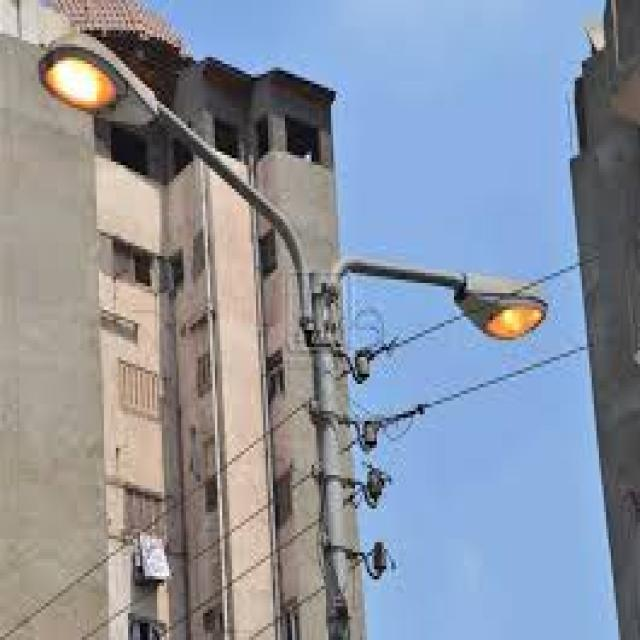Street Light: (36, 33, 548, 640)
